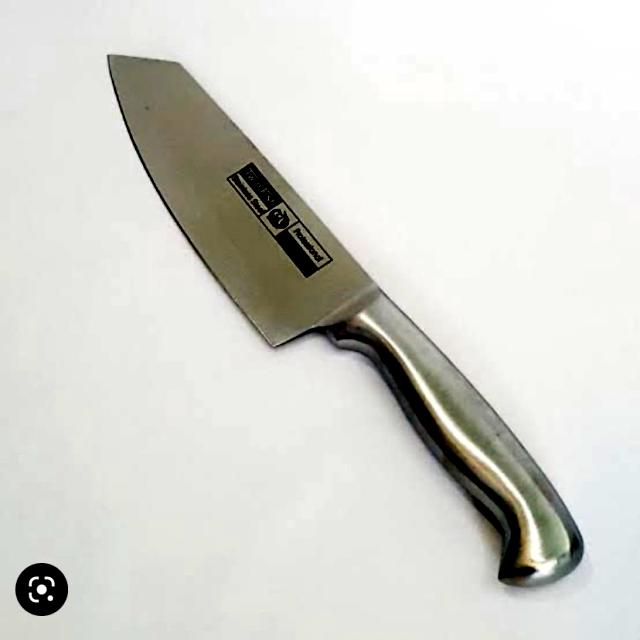knife: (103, 34, 600, 598)
